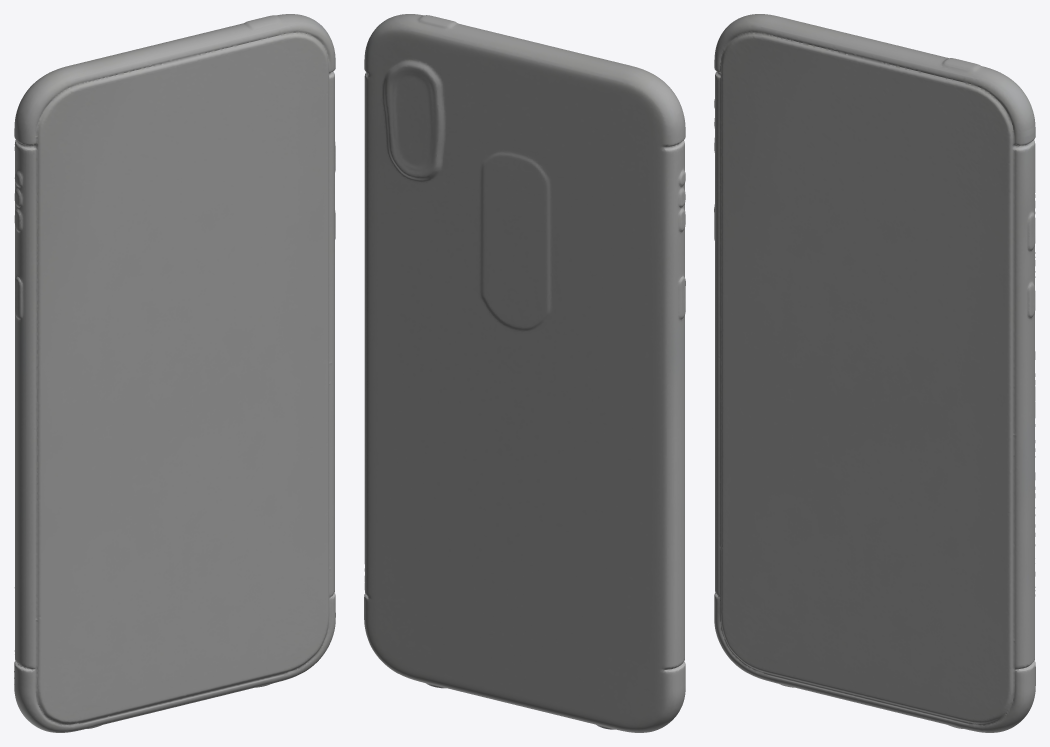
File: smartphone 3d model.glb
The picture shows the model from 3 angles, left to right: view 1: azimuth 30°, elevation 25°; view 2: azimuth 150°, elevation 25°; view 3: azimuth 330°, elevation 25°; orthographic projection.
Parts seen in each view (by area): view 1: tripo_node_98fa552d-9cb0-4c6a-ae1a-fc962f9b80e7; view 2: tripo_node_98fa552d-9cb0-4c6a-ae1a-fc962f9b80e7; view 3: tripo_node_98fa552d-9cb0-4c6a-ae1a-fc962f9b80e7.
Part boxes in pixels (<box>): tripo_node_98fa552d-9cb0-4c6a-ae1a-fc962f9b80e7: <box>14,14,335,732</box>; tripo_node_98fa552d-9cb0-4c6a-ae1a-fc962f9b80e7: <box>364,14,685,732</box>; tripo_node_98fa552d-9cb0-4c6a-ae1a-fc962f9b80e7: <box>714,14,1035,732</box>.
Bounding box in the file's own units: 0.4998 × 1 × 0.0546.
1 material, 1 textured.
